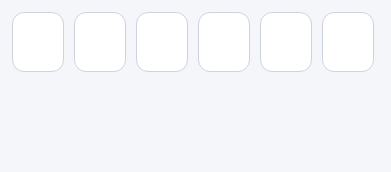
CodeInput › moves focus forward while typing
The image size is (391, 172).
Click the field named "Digit 1 of 6". click: (38, 42)
box: [12, 12, 64, 72]
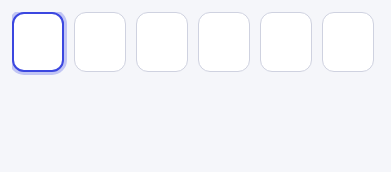
Type keys "471"
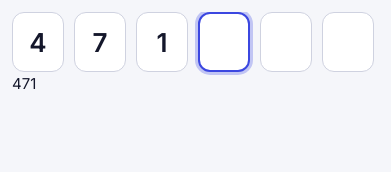
Check: the text with test id "value" reads "471", box [12, 74, 36, 93]
